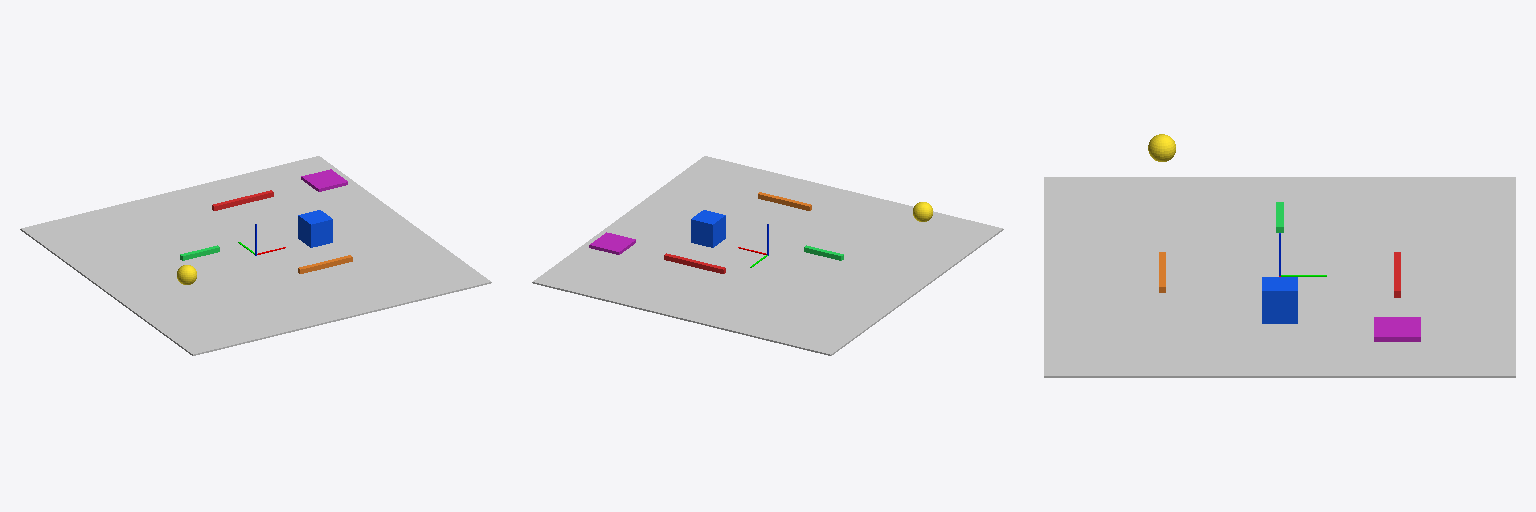
The robot description file, URDF, robot "joints_demo":
<?xml version="1.0"?>
<robot name="joints_demo">
  <!-- Base frames -->
  <link name="world"/>
  <link name="base">
    <!-- Axes at base: X red, Y green, Z blue -->
    <visual name="axis_x">
      <origin xyz="0.2 0 0" rpy="0 0 0"/>
      <geometry><box size="0.4 0.02 0.02"/></geometry>
      <material name="x_red"><color rgba="1 0 0 1"/></material>
    </visual>
    <visual name="axis_y">
      <origin xyz="0 0.2 0" rpy="0 0 0"/>
      <geometry><box size="0.02 0.4 0.02"/></geometry>
      <material name="y_green"><color rgba="0 1 0 1"/></material>
    </visual>
    <visual name="axis_z">
      <origin xyz="0 0 0.2" rpy="0 0 0"/>
      <geometry><box size="0.02 0.02 0.4"/></geometry>
      <material name="z_blue"><color rgba="0 0.2 1 1"/></material>
    </visual>
    <!-- Base floor tile -->
    <visual name="floor">
      <origin xyz="0 0 -0.01" rpy="0 0 0"/>
      <geometry><box size="4 4 0.02"/></geometry>
      <material name="floor_gray"><color rgba="0.85 0.85 0.85 0.6"/></material>
    </visual>
  </link>

  <joint name="world_to_base" type="fixed">
    <parent link="world"/>
    <child link="base"/>
    <origin xyz="0 0 0" rpy="0 0 0"/>
  </joint>

  <!-- 1) Fixed joint example -->
  <link name="fixed_link">
    <visual>
      <geometry><box size="0.3 0.3 0.3"/></geometry>
      <material name="fixed_blue"><color rgba="0.1 0.4 1.0 1"/></material>
    </visual>
  </link>
  <joint name="base_to_fixed" type="fixed">
    <parent link="base"/>
    <child link="fixed_link"/>
    <origin xyz="0.8 0.0 0.15" rpy="0 0 0"/>
  </joint>

  <!-- 2) Revolute joint (limited rotation) around Z axis -->
  <link name="revolute_link">
    <visual>
      <!-- arm extends along +X from joint center -->
      <origin xyz="0.4 0 0"/>
      <geometry><box size="0.8 0.06 0.06"/></geometry>
      <material name="revolute_red"><color rgba="0.9 0.2 0.2 1"/></material>
    </visual>
  </link>
  <joint name="base_to_revolute" type="revolute">
    <parent link="base"/>
    <child link="revolute_link"/>
    <origin xyz="0.0 1.0 0.2" rpy="0 0 0"/>
    <axis xyz="0 0 1"/>
    <limit lower="-1.5708" upper="1.5708" effort="5" velocity="2"/>
  </joint>

  <!-- 3) Continuous joint (unbounded rotation) around Z axis -->
  <link name="continuous_link">
    <visual>
      <origin xyz="0.35 0 0"/>
      <geometry><box size="0.7 0.06 0.06"/></geometry>
      <material name="continuous_orange"><color rgba="0.95 0.55 0.2 1"/></material>
    </visual>
  </link>
  <joint name="base_to_continuous" type="continuous">
    <parent link="base"/>
    <child link="continuous_link"/>
    <origin xyz="0.0 -1.0 0.2" rpy="0 0 0"/>
    <axis xyz="0 0 1"/>
  </joint>

  <!-- 4) Prismatic joint (linear slide) along X axis -->
  <link name="prismatic_link">
    <visual>
      <origin xyz="0.25 0 0"/>
      <geometry><box size="0.5 0.06 0.06"/></geometry>
      <material name="prismatic_green"><color rgba="0.2 0.9 0.4 1"/></material>
    </visual>
  </link>
  <joint name="base_to_prismatic" type="prismatic">
    <parent link="base"/>
    <child link="prismatic_link"/>
    <origin xyz="-1.0 0.0 0.2" rpy="0 0 0"/>
    <axis xyz="1 0 0"/>
    <limit lower="0.0" upper="0.6" effort="5" velocity="0.5"/>
  </joint>

  <!-- 5) Planar joint (motion in XY plane + yaw about Z)
       Nota: el visor web no soporta joints "planar". Para que se vea,
       aquí lo dejamos como fixed conservando la geometría y la pose. -->
  <link name="planar_link">
    <visual>
      <geometry><box size="0.4 0.4 0.04"/></geometry>
      <material name="planar_magenta"><color rgba="0.8 0.2 0.8 1"/></material>
    </visual>
  </link>
  <joint name="base_to_planar" type="fixed">
    <parent link="base"/>
    <child link="planar_link"/>
    <origin xyz="1.5 1.0 0.2" rpy="0 0 0"/>
  </joint>

  <!-- 6) Floating joint (full 6-DOF relative pose)
       Nota: el visor web no soporta joints "floating". Para que se vea,
       aquí lo dejamos como fixed conservando la geometría y la pose. -->
  <link name="floating_link">
    <visual>
      <geometry><sphere radius="0.12"/></geometry>
      <material name="floating_yellow"><color rgba="1.0 0.9 0.2 1"/></material>
    </visual>
  </link>
  <joint name="base_to_floating" type="fixed">
    <parent link="base"/>
    <child link="floating_link"/>
    <origin xyz="-1.5 -1.0 0.5" rpy="0 0 0"/>
  </joint>

</robot>

--- Render facts (derived) ---
3 views of the same robot in one strip: view 1: azimuth 30°, elevation 25°; view 2: azimuth 150°, elevation 25°; view 3: azimuth 270°, elevation 25° (orthographic).
Model joints_demo with 8 links and 7 joints (1 revolute, 1 continuous, 1 prismatic, 4 fixed), rooted at world, posed all joints at 0.
Visible links, largest first — view 1: base, fixed_link, planar_link; view 2: base, fixed_link, planar_link; view 3: base, fixed_link, planar_link, floating_link.
Link boxes in pixels (<box>): base: <box>20,156,491,355</box>; fixed_link: <box>298,210,332,247</box>; planar_link: <box>301,169,347,191</box>; base: <box>532,156,1003,355</box>; fixed_link: <box>691,210,725,247</box>; planar_link: <box>589,232,635,254</box>; base: <box>1044,177,1515,377</box>; fixed_link: <box>1262,277,1297,323</box>; planar_link: <box>1374,317,1420,341</box>; floating_link: <box>1148,134,1175,161</box>.
Size in the robot's own frame: 4 by 4 by 0.64 metres.
Geometry: primitives only (box / cylinder / sphere), no mesh files.